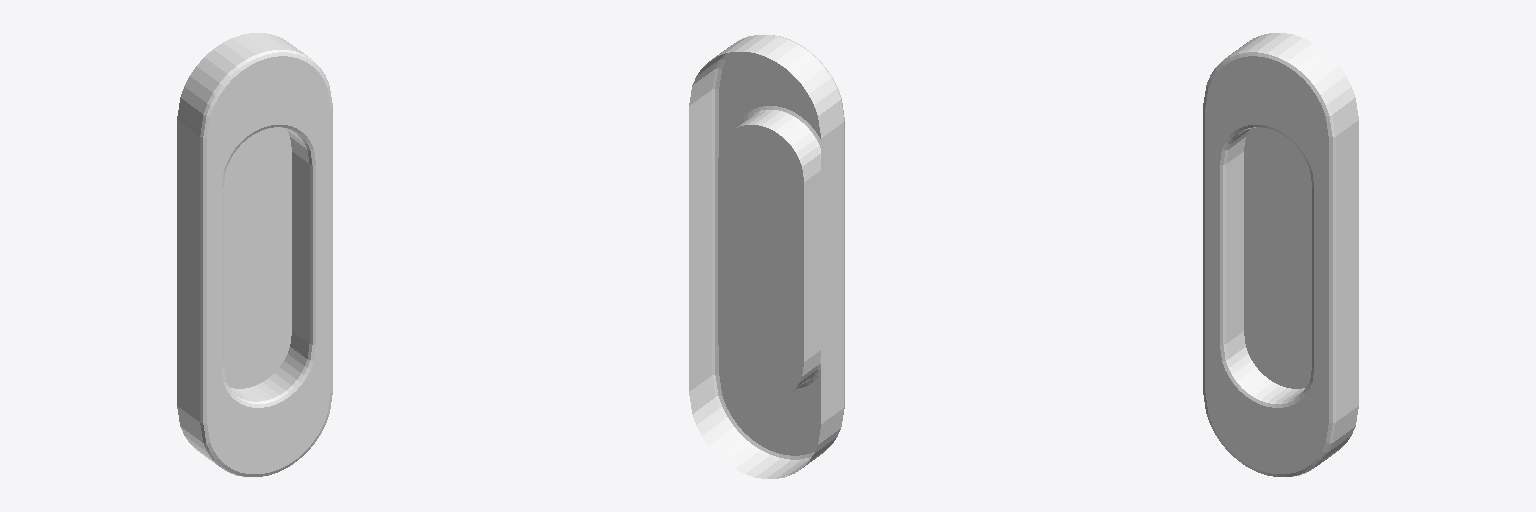
Rendered from ASEHandleRecess.obj.
The picture shows the model from 3 angles: view 1: azimuth 30°, elevation 25°; view 2: azimuth 150°, elevation 25°; view 3: azimuth 330°, elevation 25°; orthographic projection.
Visible parts, largest first — view 1: HandleRecess_Mesh.005; view 2: HandleRecess_Mesh.005; view 3: HandleRecess_Mesh.005.
Boxes of the visible parts, x1,y1,x2,y2 form: HandleRecess_Mesh.005: [177, 33, 332, 476]; HandleRecess_Mesh.005: [689, 35, 844, 478]; HandleRecess_Mesh.005: [1203, 33, 1358, 476].
Bounding box in the file's own units: 50.53 × 155 × 17.03.